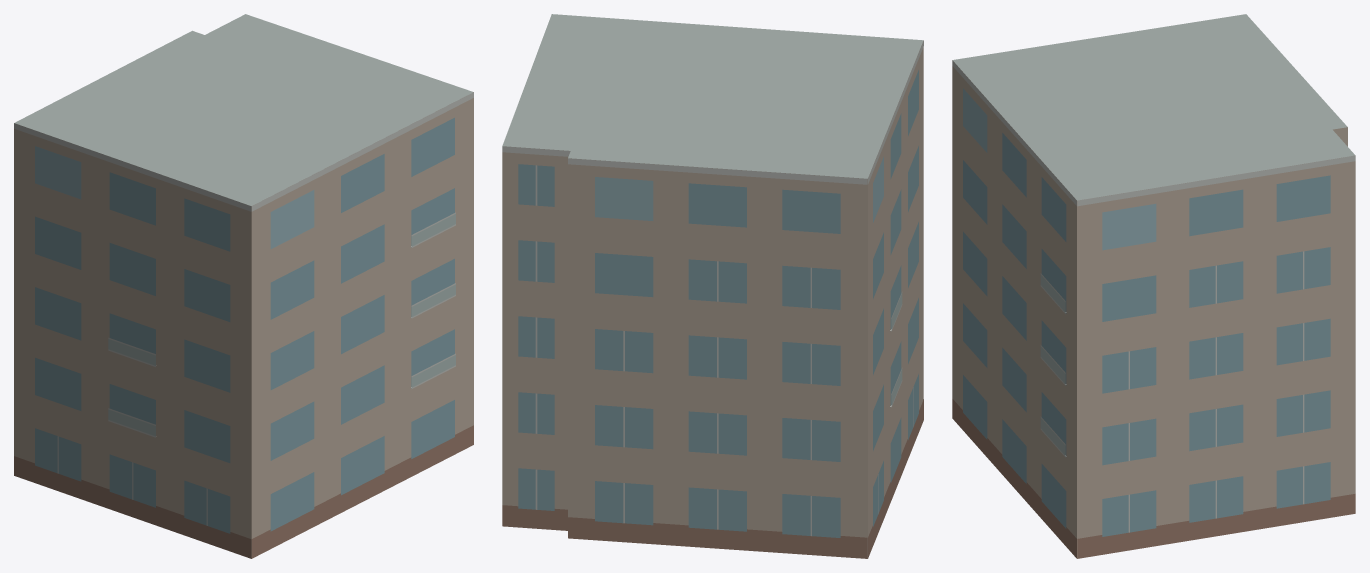
File: survey-upis-32853634.glb
3 views of the same model, side by side, from view 1: azimuth 30°, elevation 25°; view 2: azimuth 150°, elevation 25°; view 3: azimuth 270°, elevation 25° (orthographic). The views are drawn at different scales.
Visible parts, largest first — view 1: survey-upis-32853634.tmp; view 2: survey-upis-32853634.tmp; view 3: survey-upis-32853634.tmp.
Boxes of the visible parts, x1=… form: survey-upis-32853634.tmp: x1=14, y1=14, x2=473, y2=558; survey-upis-32853634.tmp: x1=502, y1=14, x2=923, y2=558; survey-upis-32853634.tmp: x1=952, y1=14, x2=1355, y2=558.
Size of the model in its own units: 17.05 by 15.25 by 15.56.
